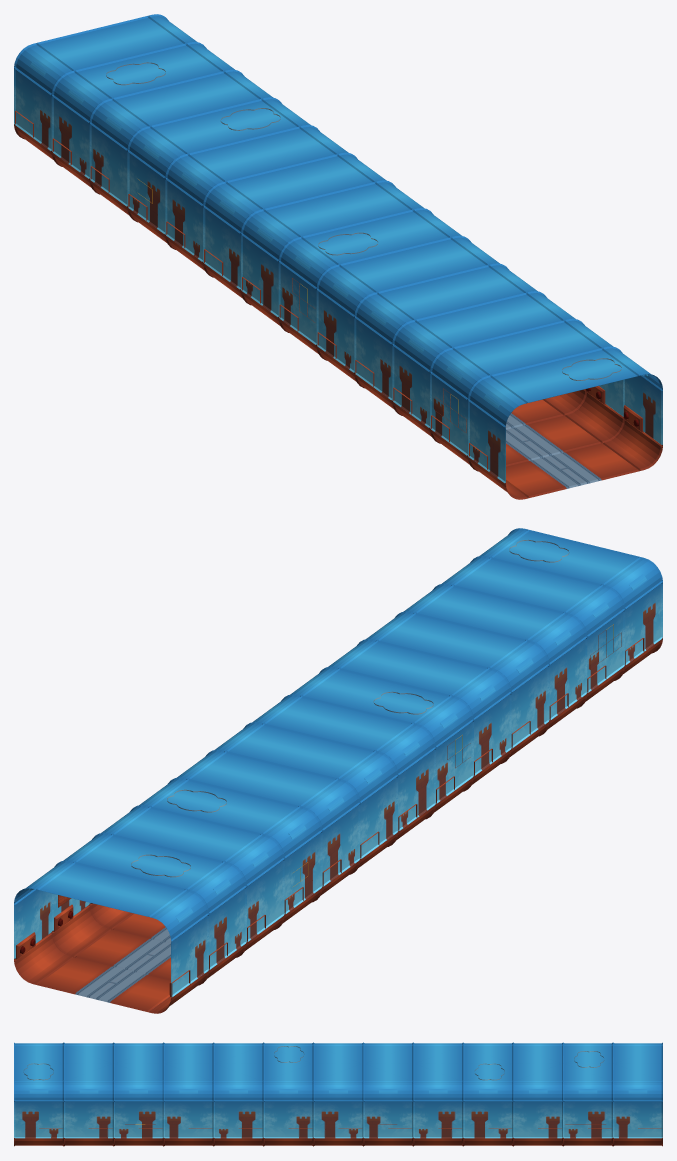
File: Level 2 Room 1 .fbx
The picture shows the model from 3 angles, top to bottom: view 1: azimuth 30°, elevation 25°; view 2: azimuth 150°, elevation 25°; view 3: azimuth 270°, elevation 25°; orthographic projection. The views are drawn at different scales.
Visible parts, largest first — view 1: Level 2 Main Body 1.008, Level 2 Main Body 2.006, Level 2 Main Body 1.007, Level 2 Main Body 2.003, Level 2 Main Body 2.005, Level 2 Main Body 1.001, Level 2 Main Body 1.005, Level 2 Main Body 2, Level 2 Main Body 1.002, Level 2 Main Body 1.003, Level 2 Main Body 1, Level 2 Main Body 2.001 (+2 smaller); view 2: Level 2 Main Body 2.002, Level 2 Main Body 1.003, Level 2 Main Body 2.003, Level 2 Main Body 2.005, Level 2 Main Body 1.007, Level 2 Main Body 2.001, Level 2 Main Body 1.002, Level 2 Main Body 2.006, Level 2 Main Body 1.005, Level 2 Main Body 1, Level 2 Main Body 1.001, Level 2 Main Body 2 (+2 smaller); view 3: Level 2 Main Body 1.005, Level 2 Main Body 2.005, Level 2 Main Body 1.001, Level 2 Main Body 1.002, Level 2 Main Body 2, Level 2 Main Body 2.001, Level 2 Main Body 1, Level 2 Main Body 1.003, Level 2 Main Body 1.008, Level 2 Main Body 2.002, Level 2 Main Body 2.006, Level 2 Main Body 1.007 (+2 smaller).
Boxes of the visible parts, bbox=[...] form: Level 2 Main Body 1.008: bbox=[468, 346, 662, 499]; Level 2 Main Body 2.006: bbox=[430, 318, 624, 466]; Level 2 Main Body 1.007: bbox=[392, 291, 586, 436]; Level 2 Main Body 2.003: bbox=[89, 69, 272, 215]; Level 2 Main Body 2.005: bbox=[354, 263, 537, 409]; Level 2 Main Body 1.001: bbox=[316, 235, 499, 381]; Level 2 Main Body 1.005: bbox=[127, 97, 310, 242]; Level 2 Main Body 2: bbox=[278, 208, 461, 353]; Level 2 Main Body 1.002: bbox=[165, 125, 348, 270]; Level 2 Main Body 1.003: bbox=[51, 42, 234, 187]; Level 2 Main Body 1: bbox=[241, 180, 423, 326]; Level 2 Main Body 2.001: bbox=[203, 152, 386, 298]; Level 2 Main Body 2.002: bbox=[14, 860, 208, 1013]; Level 2 Main Body 1.003: bbox=[51, 832, 246, 980]; Level 2 Main Body 2.003: bbox=[89, 805, 284, 950]; Level 2 Main Body 2.005: bbox=[366, 611, 549, 756]; Level 2 Main Body 1.007: bbox=[404, 583, 587, 729]; Level 2 Main Body 2.001: bbox=[215, 722, 398, 867]; Level 2 Main Body 1.002: bbox=[177, 749, 360, 895]; Level 2 Main Body 2.006: bbox=[442, 556, 625, 701]; Level 2 Main Body 1.005: bbox=[139, 777, 322, 923]; Level 2 Main Body 1: bbox=[253, 694, 435, 840]; Level 2 Main Body 1.001: bbox=[328, 639, 511, 784]; Level 2 Main Body 2: bbox=[290, 666, 473, 812]; Level 2 Main Body 1.005: bbox=[463, 1042, 513, 1146]; Level 2 Main Body 2.005: bbox=[163, 1042, 213, 1146]; Level 2 Main Body 1.001: bbox=[213, 1042, 263, 1146]; Level 2 Main Body 1.002: bbox=[413, 1042, 463, 1146]; Level 2 Main Body 2: bbox=[263, 1042, 313, 1146]; Level 2 Main Body 2.001: bbox=[363, 1042, 413, 1146]; Level 2 Main Body 1: bbox=[313, 1043, 363, 1145]; Level 2 Main Body 1.003: bbox=[563, 1042, 612, 1146]; Level 2 Main Body 1.008: bbox=[14, 1042, 63, 1146]; Level 2 Main Body 2.002: bbox=[613, 1042, 662, 1146]; Level 2 Main Body 2.006: bbox=[64, 1042, 113, 1146]; Level 2 Main Body 1.007: bbox=[114, 1042, 163, 1146].
Bounding box in the file's own units: 2118 × 1229 × 11466.
